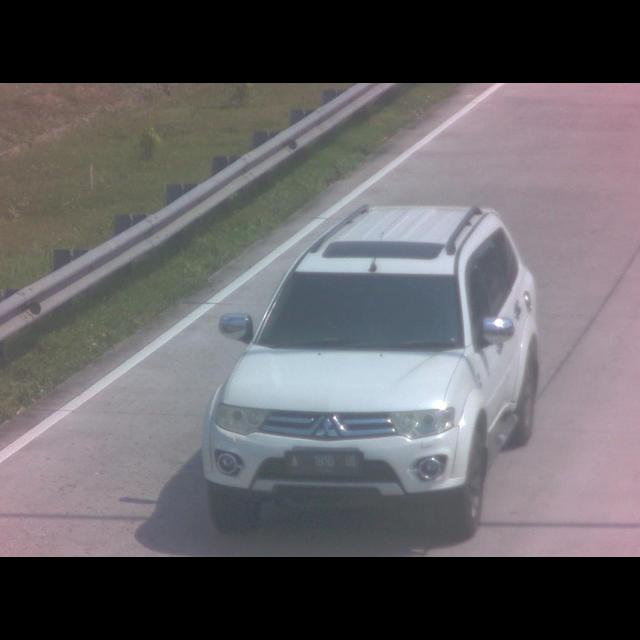plate: (283, 451, 362, 479)
